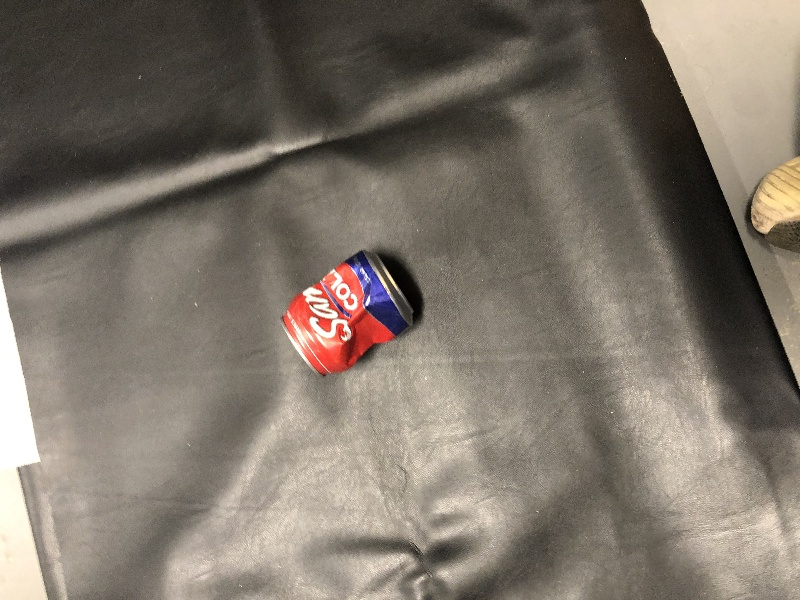metal: (265, 236, 427, 383)
